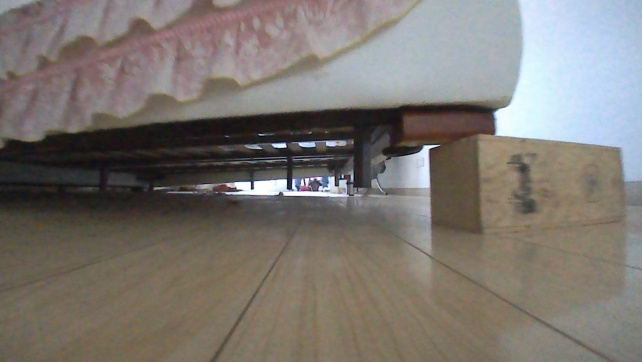sofa1: (0, 0, 532, 225)
